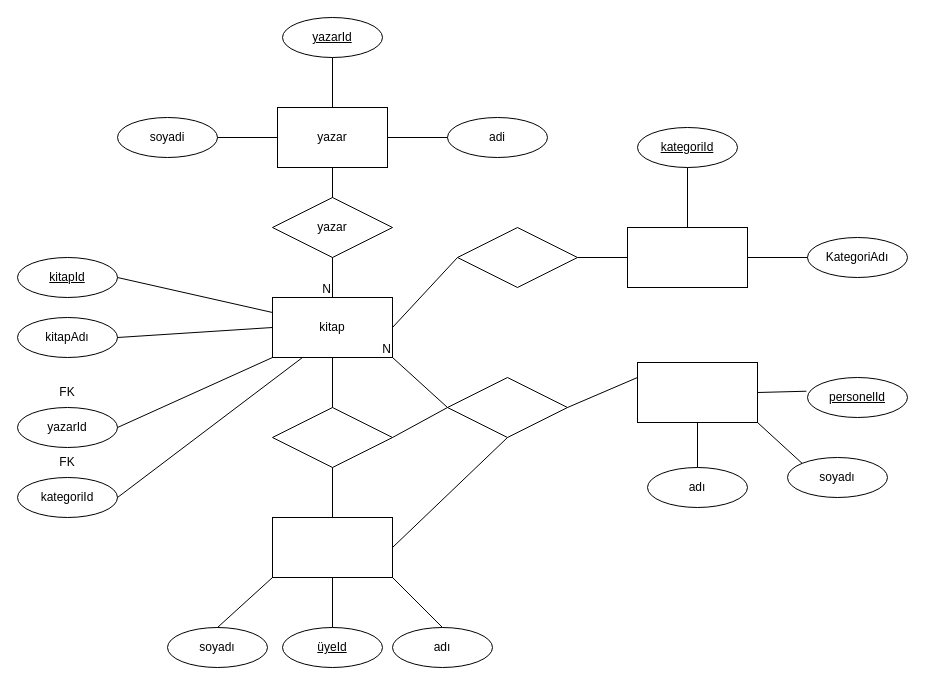
Some shapes in this 925 by 685 pixel diagram are drawn without their labels. Each missing label, with the centre of its shape:
işlemlerini yapar: point (507, 407)
kategori: point (687, 257)
personel: point (697, 392)
vardır: point (517, 257)
ödünç alır: point (332, 437)
üye: point (332, 547)
